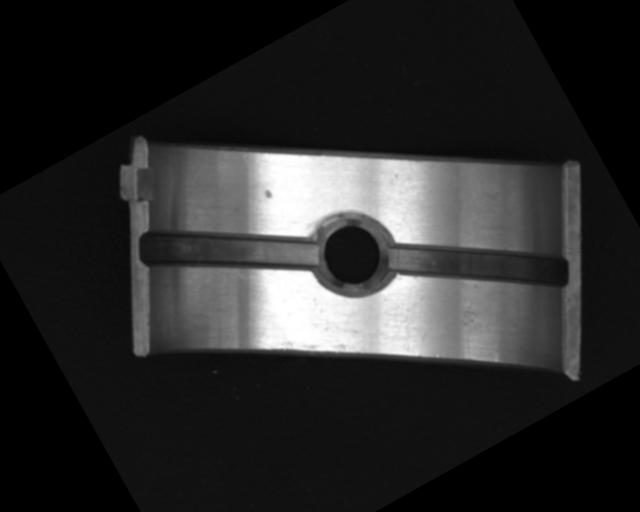bruise: (261, 185, 275, 200)
gap: (383, 176, 576, 354), (131, 164, 324, 339)
hole: (305, 202, 403, 305)
